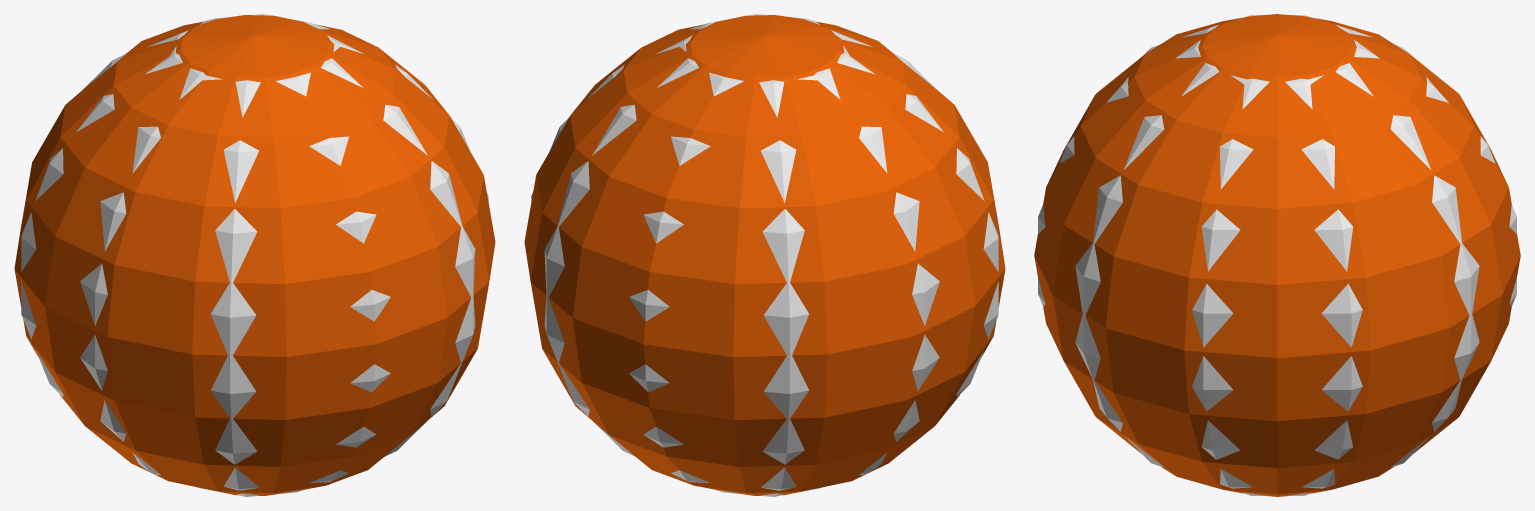
File: мяч.fbx
3 renders of one model, left to right at view 1: azimuth 30°, elevation 25°; view 2: azimuth 150°, elevation 25°; view 3: azimuth 270°, elevation 25°, orthographic.
Parts seen in each view (by area): view 1: Sphere, Sphere.001; view 2: Sphere, Sphere.001; view 3: Sphere, Sphere.001.
Part boxes in pixels (x1,y1,x2,y2): Sphere: (14, 15, 495, 495); Sphere.001: (21, 14, 488, 496); Sphere: (524, 15, 1005, 495); Sphere.001: (531, 14, 998, 496); Sphere: (1034, 14, 1520, 496); Sphere.001: (1038, 15, 1516, 495).
Size of the model in its own units: 200 by 200 by 200.
